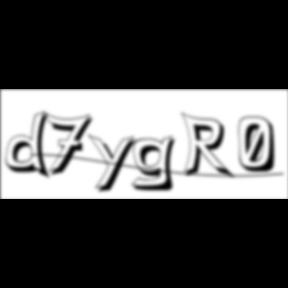0: (238, 115, 284, 174)
7: (44, 111, 98, 179)
R: (180, 112, 238, 182)
d: (6, 110, 56, 182)
g: (131, 134, 183, 194)
y: (88, 132, 142, 196)
